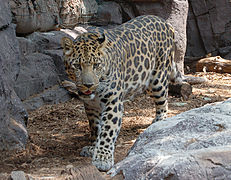amur_leopard: (56, 12, 190, 159)
